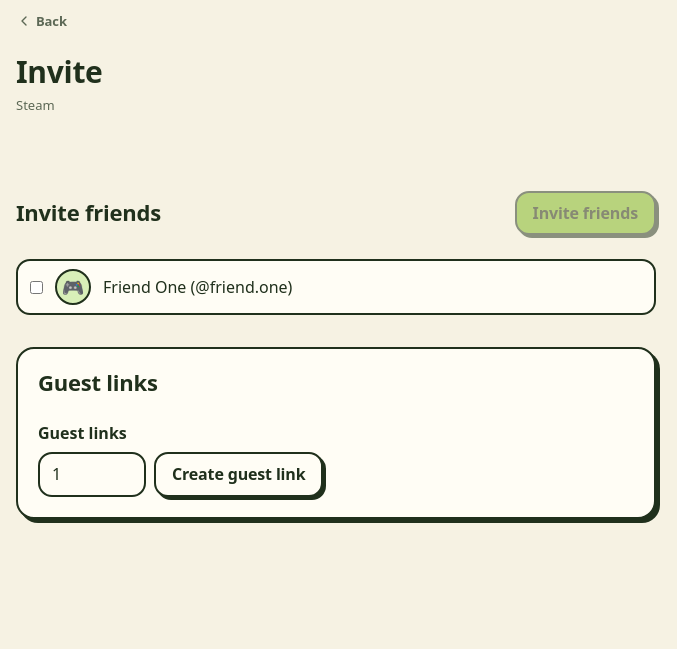
Scenario: SessionInvitePage › creates and copies a guest link_D115
Expected: the checkbox labelled "Friend One (@friend.one)" is shown, [30, 281, 43, 294]
Click the button "Create guest link".
click(239, 474)  # box [154, 452, 324, 496]
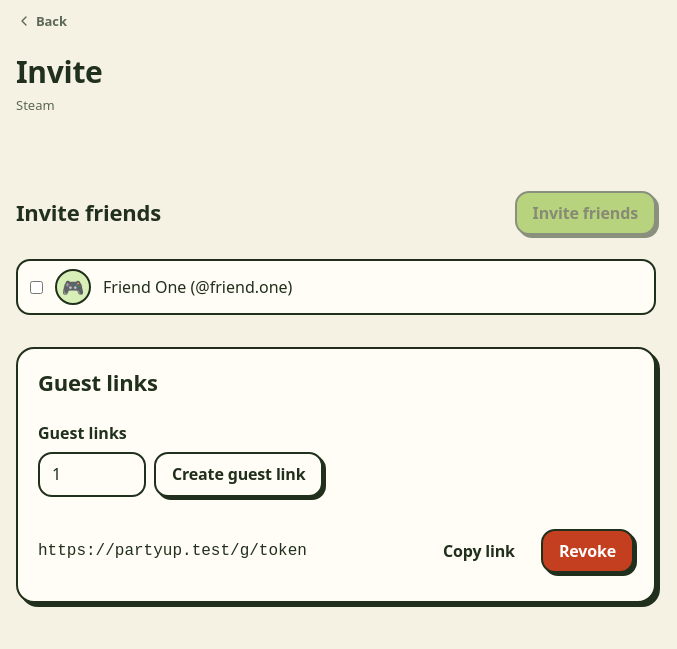
Now the text "https://partyup.test/g/token" is shown, box [38, 542, 307, 560]
Click the button with aria-label "Copy link to clipboard".
click(479, 551)  # box [425, 528, 533, 573]
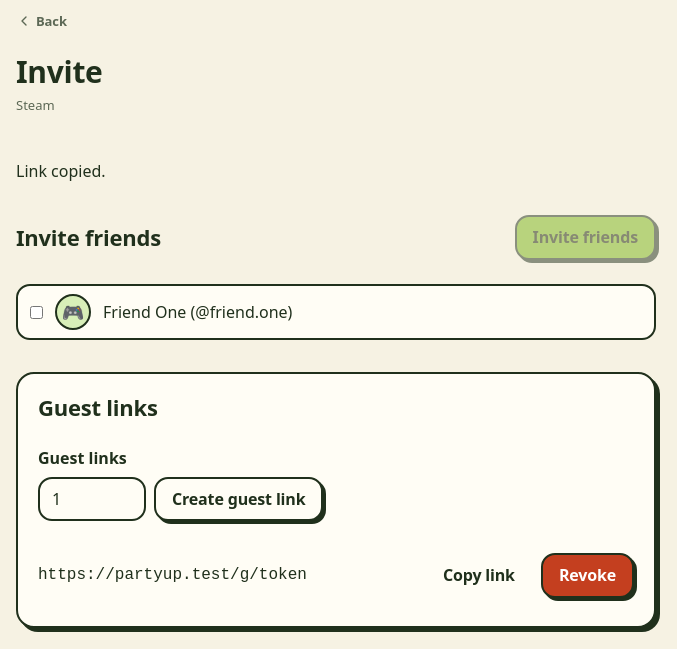
Now the text "Link copied." is shown, box [16, 160, 106, 182]
